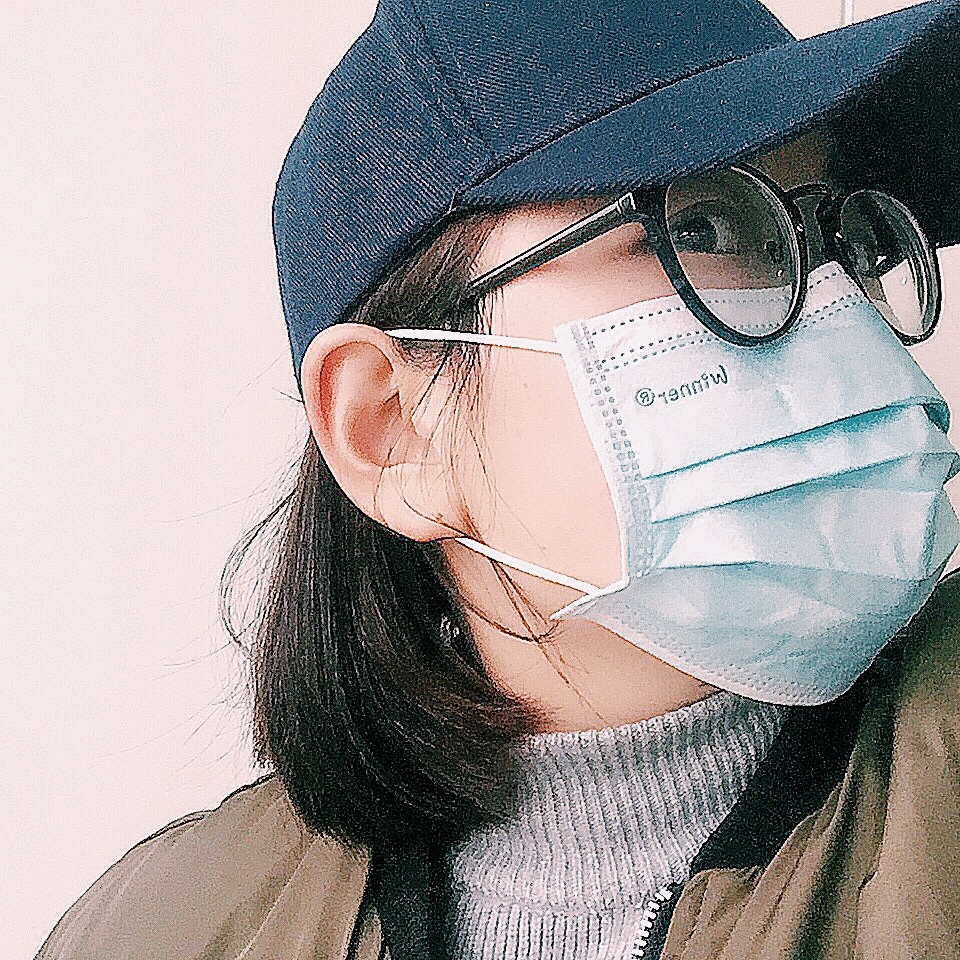face_mask: (499, 121, 956, 721)
